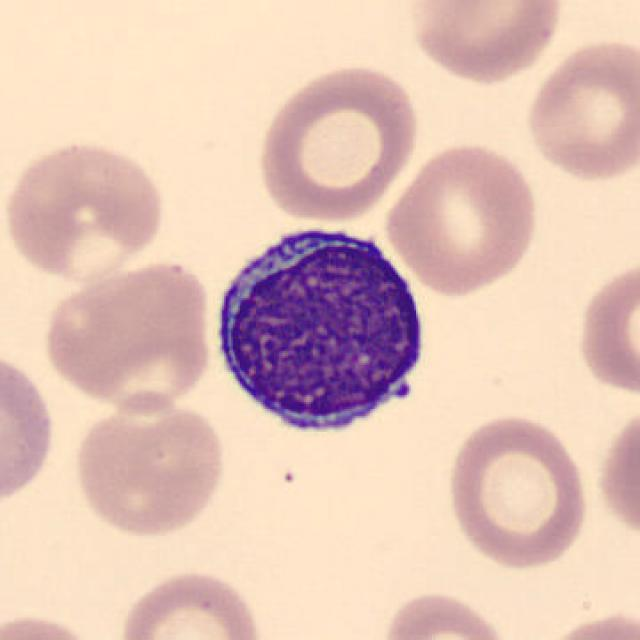Lymphocyte: (203, 212, 439, 444)
RBC: (39, 255, 217, 412), (253, 60, 423, 224), (382, 137, 542, 298), (0, 136, 169, 286), (441, 409, 592, 573), (70, 390, 230, 541), (521, 34, 638, 185), (405, 0, 568, 86), (114, 566, 268, 640), (572, 252, 640, 402), (0, 343, 60, 511), (378, 587, 516, 640), (594, 396, 640, 546), (535, 606, 640, 640), (0, 608, 107, 640)
